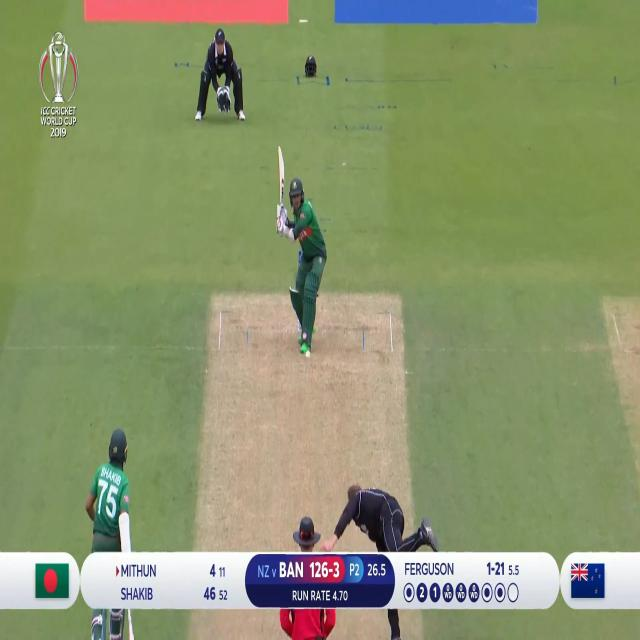ball: (303, 349, 313, 361)
